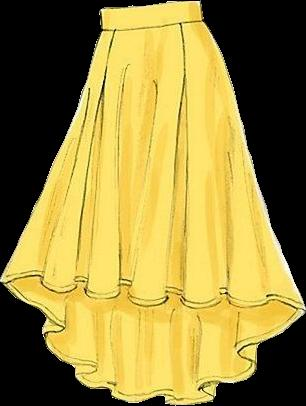Hemline: (0, 272, 305, 310)
Waistline: (100, 18, 203, 34), (99, 0, 199, 12)
